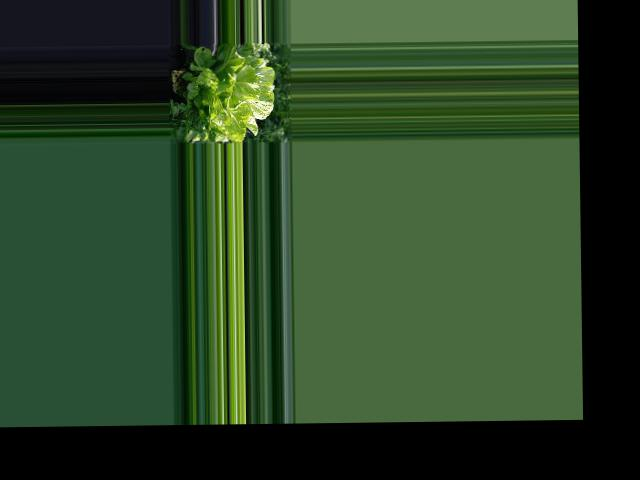lettuce: (189, 45, 273, 133)
